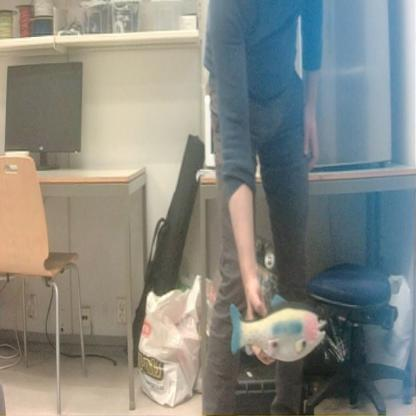rubberfish: (226, 294, 330, 368)
